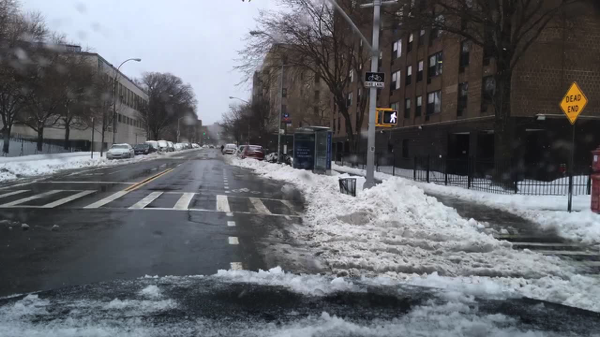bike: (218, 148, 224, 154)
car: (105, 144, 135, 160), (242, 145, 265, 162), (133, 145, 154, 157), (142, 140, 161, 153), (158, 141, 169, 154), (224, 143, 236, 154), (236, 145, 245, 154), (168, 141, 175, 150), (177, 144, 183, 151), (183, 142, 188, 150), (194, 144, 200, 150), (201, 143, 207, 149), (188, 143, 195, 148), (207, 145, 213, 149)
rider: (219, 143, 223, 152)
traffic light: (384, 110, 398, 126)
traffic sign: (558, 81, 587, 124), (362, 72, 383, 88), (280, 111, 290, 122)
